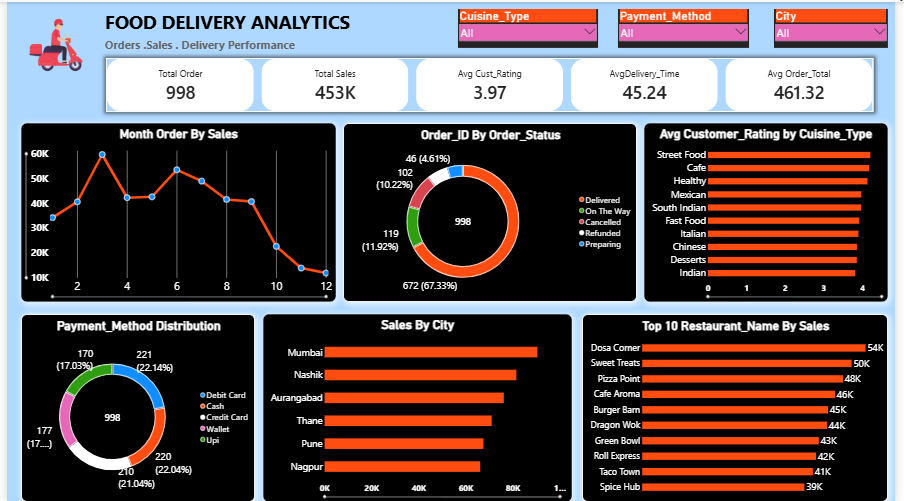

Layout of this report page (visuals, bound fields, positions):
{"tool":"powerbi","page":{"name":"Food Delivery ","canvas":[3840,2160],"ordinal":0},"visuals":[{"type":"lineChart","title":"Month Order By Sales","fields":{"Category":["Food_Delivery.Month"],"Y":["Sum(Food_Delivery.Sales)"]},"box":[60.5,522.7,1360.8,773.3],"z":0},{"type":"donutChart","title":"Order_ID By Order_Status","fields":{"Category":["Food_Delivery.Order_Status"],"Y":["Count(Food_Delivery.Order_ID)"]},"box":[1451.5,522.7,1270.1,773.3],"z":1000},{"type":"barChart","title":"Top 10 Restaurant_Name By Sales","fields":{"Category":["Food_Delivery.Restaurant_Name"],"Y":["Sum(Food_Delivery.Sales)"]},"box":[2484,1347.8,1321.9,812.2],"z":2000},{"type":"barChart","title":"Sales By City","fields":{"Category":["Food_Delivery.City"],"Y":["Sum(Food_Delivery.Sales)"]},"box":[1105.9,1347.8,1334.9,812.2],"z":3000},{"type":"donutChart","title":"Payment_Method Distribution","fields":{"Category":["Food_Delivery.Payment_Method"],"Y":["CountNonNull(Food_Delivery.Order_ID)"]},"box":[60.5,1347.8,1010.9,812.2],"z":4000},{"type":"barChart","title":"Avg Customer_Rating by Cuisine_Type","fields":{"Category":["Food_Delivery.Cuisine_Type"],"Y":["Avg(Food_Delivery.Customer_Rating)"]},"box":[2751.8,522.7,1054.1,773.3],"z":5000},{"type":"textbox","box":[423.4,30.2,1084.3,121],"z":6000},{"type":"textbox","box":[423.4,151.2,1028.2,90.7],"z":7000},{"type":"slicer","fields":{"Values":["Food_Delivery.City"]},"box":[3313.4,30.2,492.5,168.5],"z":8000},{"type":"slicer","fields":{"Values":["Food_Delivery.Payment_Method"]},"box":[2639.5,30.2,565.9,168.5],"z":9000},{"type":"slicer","fields":{"Values":["Food_Delivery.Cuisine_Type"]},"box":[1948.3,30.2,604.8,168.5],"z":10000},{"type":"cardVisual","fields":{"Data":["Count(Food_Delivery.Order_ID)","Sum(Food_Delivery.Sales)","Avg(Food_Delivery.Customer_Rating)","Avg(Food_Delivery.Delivery_Time)","Avg(Food_Delivery.Order_Total)"]},"box":[427.7,241.9,3317.8,233.3],"z":11000},{"type":"image","box":[0,0,423.4,371.5],"z":12000}]}

Visuals, with their boxes in screenshot pixels (x1, y1, x2, y2), scaled from the page's 3840x2160 canvas onto the 904x501 screenshot:
"Month Order By Sales" lineChart: select_region(14, 121, 335, 301)
"Order_ID By Order_Status" donutChart: select_region(342, 121, 641, 301)
"Top 10 Restaurant_Name By Sales" barChart: select_region(585, 313, 896, 500)
"Sales By City" barChart: select_region(260, 313, 575, 500)
"Payment_Method Distribution" donutChart: select_region(14, 313, 252, 500)
"Avg Customer_Rating by Cuisine_Type" barChart: select_region(648, 121, 896, 301)
textbox: select_region(100, 7, 355, 35)
textbox: select_region(100, 35, 342, 56)
slicer - Food_Delivery.City: select_region(780, 7, 896, 46)
slicer - Food_Delivery.Payment_Method: select_region(621, 7, 755, 46)
slicer - Food_Delivery.Cuisine_Type: select_region(459, 7, 601, 46)
cardVisual - Count(Food_Delivery.Order_ID) x Sum(Food_Delivery.Sales): select_region(101, 56, 882, 110)
image: select_region(0, 0, 100, 86)
